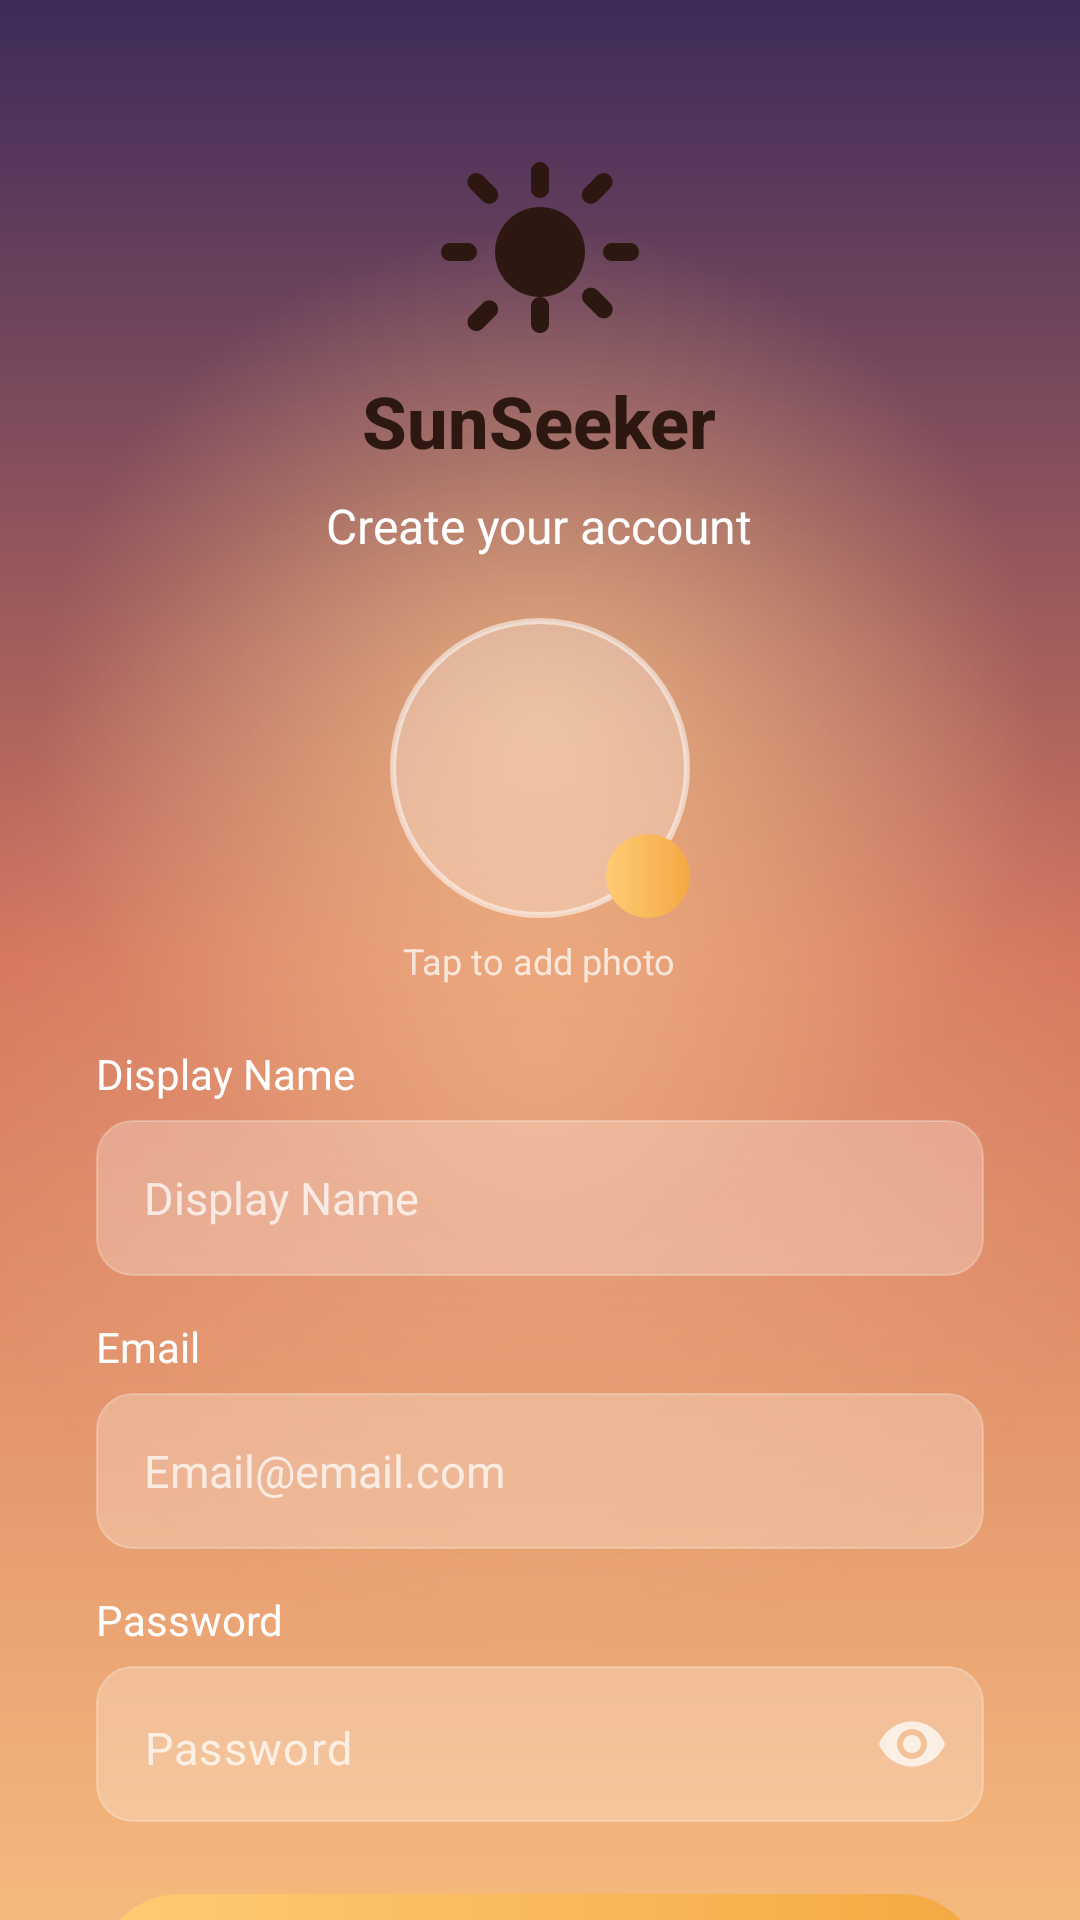

Icons on this 1080x1920 Android screen, each with the point to tap as [x,y]:
solar sun: [540,252]
